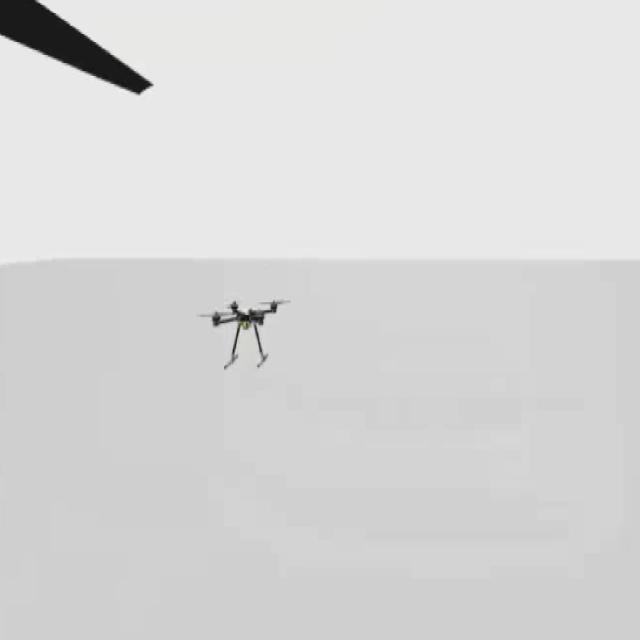drone: (196, 291, 292, 374)
